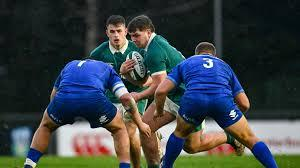ballon_rugby: (125, 49, 149, 83)
